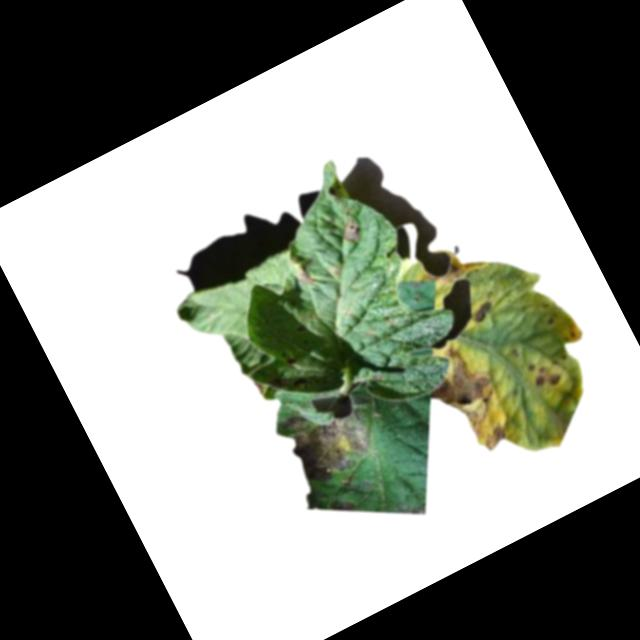Early_blight: (414, 336, 521, 464), (274, 386, 387, 489), (415, 244, 484, 295), (523, 352, 565, 395), (337, 213, 367, 247), (288, 257, 316, 289), (467, 298, 498, 326), (249, 376, 265, 396)
